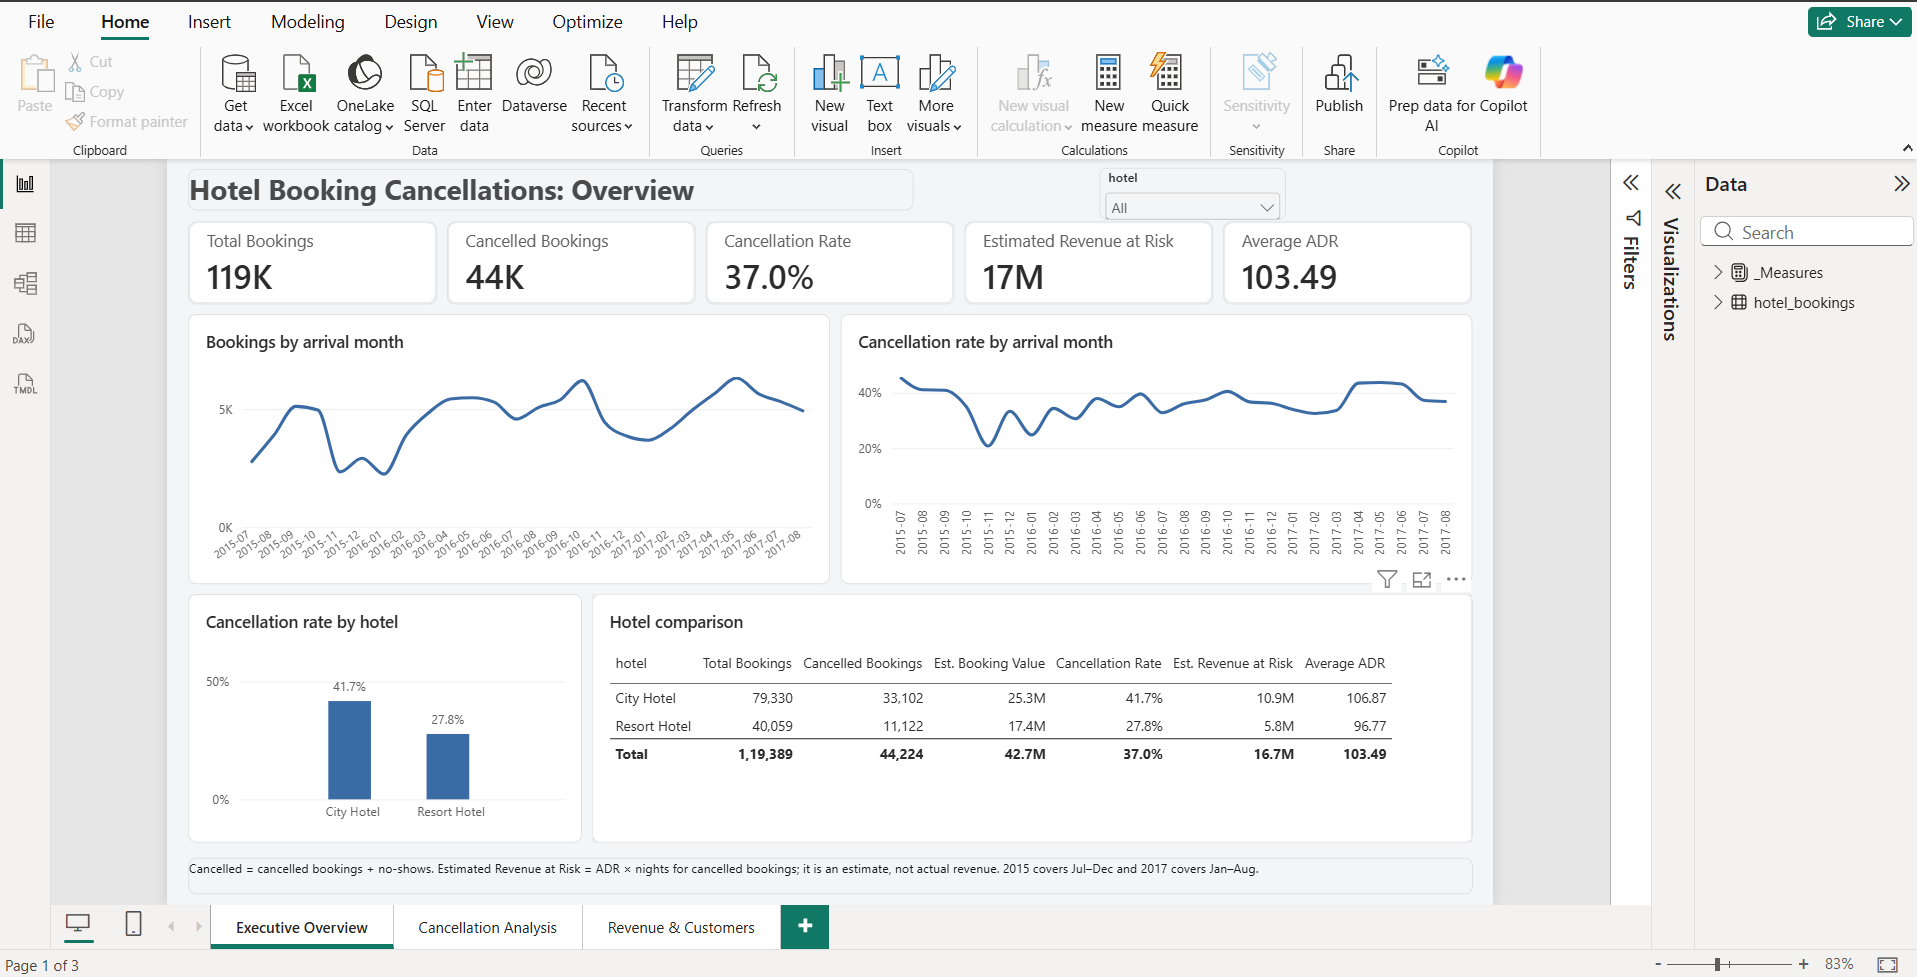

What the dashboard file says about the page in this screenshot:
{"tool":"powerbi","page":{"name":"Executive Overview","canvas":[1280,720],"ordinal":0},"visuals":[{"type":"cardVisual","fields":{"Data":["_Measures.Total Bookings"]},"box":[20,60,240,80],"z":0},{"type":"cardVisual","fields":{"Data":["_Measures.Cancelled Bookings"]},"box":[270,60,240,80],"z":1000},{"type":"cardVisual","fields":{"Data":["_Measures.Cancellation Rate"]},"box":[520,60,240,80],"z":2000},{"type":"cardVisual","fields":{"Data":["_Measures.Average ADR"]},"box":[1020,60,240,80],"z":3000},{"type":"cardVisual","fields":{"Data":["_Measures.Estimated Revenue at Risk"]},"box":[770,60,240,80],"z":4000},{"type":"textbox","box":[20,10,700,40],"z":6000},{"type":"slicer","title":"Hotel","fields":{"Values":["hotel_bookings.hotel"]},"box":[900,8,180,50],"z":7000},{"type":"lineChart","title":"Bookings by arrival month","fields":{"Category":["hotel_bookings.Year Month"],"Y":["_Measures.Total Bookings"]},"box":[20.5,149.6,618.9,260.6],"z":8000},{"type":"lineChart","title":"Cancellation rate by arrival month","fields":{"Category":["hotel_bookings.Year Month"],"Y":["_Measures.Cancellation Rate"]},"box":[650.3,149.6,609.3,260.6],"z":9000},{"type":"clusteredColumnChart","title":"Cancellation rate by hotel","fields":{"Category":["hotel_bookings.hotel"],"Y":["_Measures.Cancellation Rate"]},"box":[20,420,380,240],"z":10000},{"type":"tableEx","title":"Hotel comparison","fields":{"Values":["hotel_bookings.hotel","_Measures.Total Bookings","_Measures.Cancelled Bookings","_Measures.Estimated Booking Value","_Measures.Cancellation Rate","_Measures.Estimated Revenue at Risk","_Measures.Average ADR"]},"box":[410.1,420,850,240],"z":11000},{"type":"textbox","box":[20,675,1240,35],"z":12000}]}

Visuals, with their boxes on the page's 1280x720 design canvas (x1, y1, x2, y2). These are canvas units, not pixel positions in the 1917x977 screenshot, which may show the page scaled, cropped or inside an application window:
cardVisual - _Measures.Total Bookings: {"x1": 20, "y1": 60, "x2": 260, "y2": 140}
cardVisual - _Measures.Cancelled Bookings: {"x1": 270, "y1": 60, "x2": 510, "y2": 140}
cardVisual - _Measures.Cancellation Rate: {"x1": 520, "y1": 60, "x2": 760, "y2": 140}
cardVisual - _Measures.Average ADR: {"x1": 1020, "y1": 60, "x2": 1260, "y2": 140}
cardVisual - _Measures.Estimated Revenue at Risk: {"x1": 770, "y1": 60, "x2": 1010, "y2": 140}
textbox: {"x1": 20, "y1": 10, "x2": 720, "y2": 50}
"Hotel" slicer: {"x1": 900, "y1": 8, "x2": 1080, "y2": 58}
"Bookings by arrival month" lineChart: {"x1": 20, "y1": 150, "x2": 639, "y2": 410}
"Cancellation rate by arrival month" lineChart: {"x1": 650, "y1": 150, "x2": 1260, "y2": 410}
"Cancellation rate by hotel" clusteredColumnChart: {"x1": 20, "y1": 420, "x2": 400, "y2": 660}
"Hotel comparison" tableEx: {"x1": 410, "y1": 420, "x2": 1260, "y2": 660}
textbox: {"x1": 20, "y1": 675, "x2": 1260, "y2": 710}
